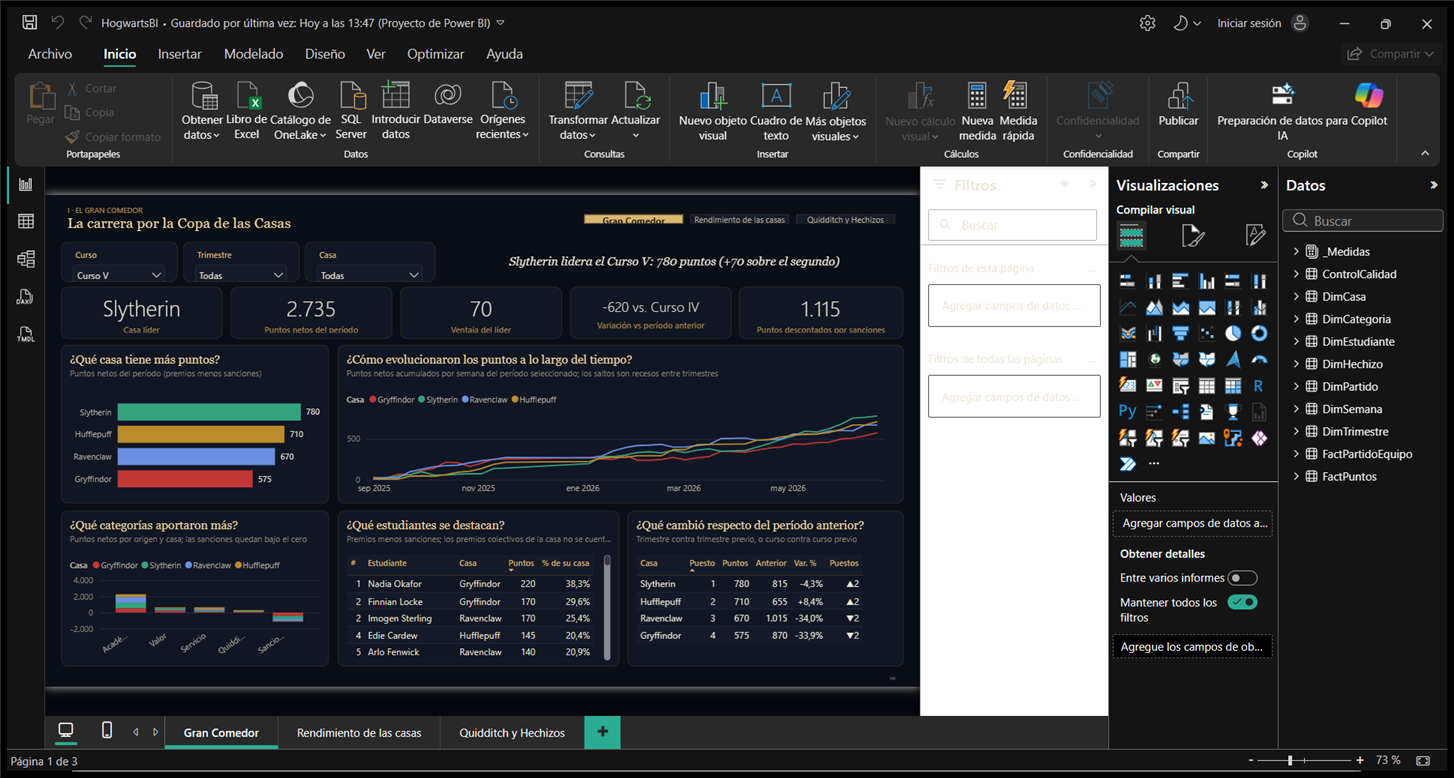

What the dashboard file says about the page in this screenshot:
{"tool":"powerbi","page":{"name":"Gran Comedor","canvas":[1280,720],"ordinal":0},"visuals":[{"type":"image","box":[0,0,1280,112],"z":0},{"type":"textbox","box":[26,16,600,76],"z":100},{"type":"pageNavigator","box":[752,0,495.4,42.5],"z":200},{"type":"slicer","fields":{"Values":["DimTrimestre.Curso"]},"box":[24,120,156,56],"z":300},{"type":"slicer","fields":{"Values":["DimTrimestre.Trimestre"]},"box":[188,120,156,56],"z":400},{"type":"slicer","fields":{"Values":["DimCasa.Casa"]},"box":[352,120,164,56],"z":500},{"type":"card","fields":{"Values":["_Medidas.Titular Gran Comedor"]},"box":[532,120,724,56],"z":600},{"type":"image","title":"¿Qué casa tiene más puntos?","box":[24,184,620,300],"z":700},{"type":"card","fields":{"Values":["_Medidas.Puntos Netos"]},"box":[656,184,192,78],"z":800},{"type":"card","fields":{"Values":["_Medidas.Variación vs Período Anterior (texto)"]},"box":[860,184,192,78],"z":900},{"type":"card","fields":{"Values":["_Medidas.Puntos Descontados"]},"box":[1064,184,192,78],"z":1000},{"type":"lineChart","title":"¿Cómo evolucionaron los puntos a lo largo del tiempo?","fields":{"Category":["DimSemana.FechaInicioSemana"],"Series":["DimCasa.Casa"],"Y":["_Medidas.Puntos Acumulados"]},"box":[656,270,600,214],"z":1100},{"type":"columnChart","title":"¿Qué categorías aportaron más?","fields":{"Category":["DimCategoria.Categoría"],"Series":["DimCasa.Casa"],"Y":["_Medidas.Puntos Netos"]},"box":[24,492,404,200],"z":1200},{"type":"tableEx","title":"¿Qué estudiantes se destacan?","fields":{"Values":["_Medidas.Posición Estudiante","DimEstudiante.Estudiante","DimEstudiante.Casa del Estudiante","_Medidas.Puntos Netos Estudiante","_Medidas.% Contribución a la Casa"]},"box":[440,492,400,200],"z":1300},{"type":"tableEx","title":"¿Qué cambió respecto del período anterior?","fields":{"Values":["DimCasa.Casa","_Medidas.Posición","_Medidas.Puntos Netos","_Medidas.Puntos Período Anterior","_Medidas.Variación % vs Período Anterior","_Medidas.Cambio de Posición"]},"box":[852,492,404,200],"z":1400},{"type":"card","fields":{"Values":["_Medidas.Estado de Calidad"]},"box":[24,696,420,22],"z":1500},{"type":"textbox","box":[760,696,496,22],"z":1600}]}

Visuals, with their boxes on the page's 1280x720 design canvas (x1, y1, x2, y2). These are canvas units, not pixel positions in the 1454x778 screenshot, which may show the page scaled, cropped or inside an application window:
image: [0, 0, 1280, 112]
textbox: [26, 16, 626, 92]
pageNavigator: [752, 0, 1247, 42]
slicer - DimTrimestre.Curso: [24, 120, 180, 176]
slicer - DimTrimestre.Trimestre: [188, 120, 344, 176]
slicer - DimCasa.Casa: [352, 120, 516, 176]
card - _Medidas.Titular Gran Comedor: [532, 120, 1256, 176]
"¿Qué casa tiene más puntos?" image: [24, 184, 644, 484]
card - _Medidas.Puntos Netos: [656, 184, 848, 262]
card - _Medidas.Variación vs Período Anterior (texto): [860, 184, 1052, 262]
card - _Medidas.Puntos Descontados: [1064, 184, 1256, 262]
"¿Cómo evolucionaron los puntos a lo largo del tiempo?" lineChart: [656, 270, 1256, 484]
"¿Qué categorías aportaron más?" columnChart: [24, 492, 428, 692]
"¿Qué estudiantes se destacan?" tableEx: [440, 492, 840, 692]
"¿Qué cambió respecto del período anterior?" tableEx: [852, 492, 1256, 692]
card - _Medidas.Estado de Calidad: [24, 696, 444, 718]
textbox: [760, 696, 1256, 718]
